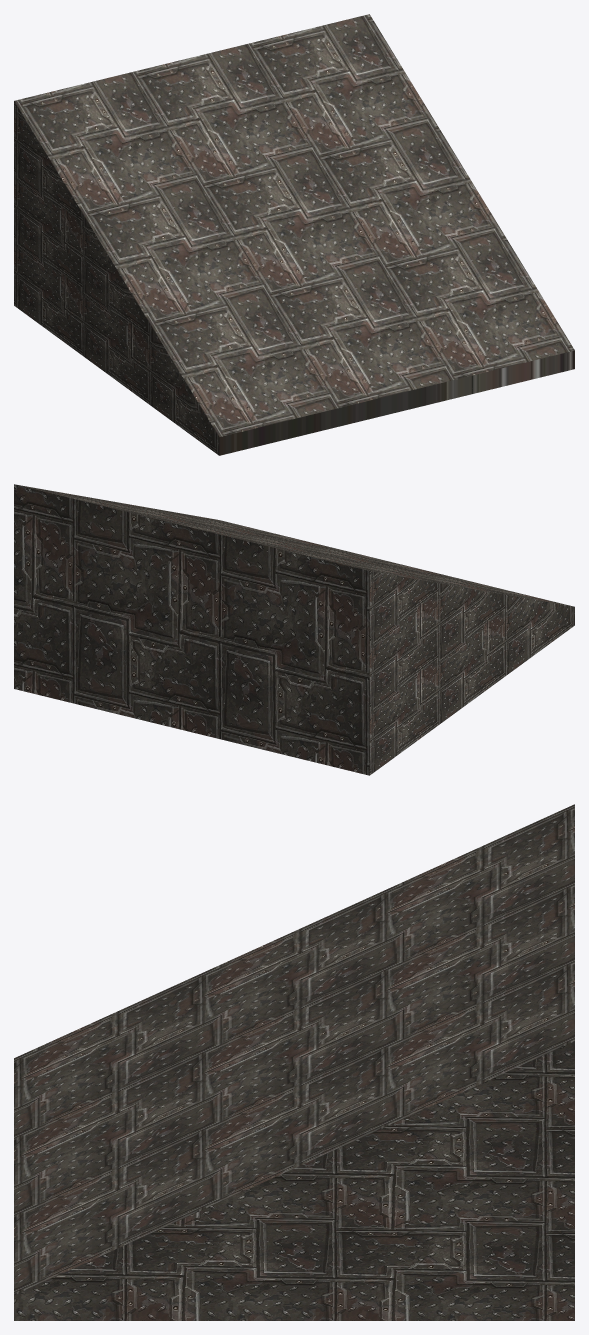
The model's file is Ramp_metal5.glb.
3 renders of one model, top to bottom at view 1: azimuth 30°, elevation 25°; view 2: azimuth 150°, elevation 25°; view 3: azimuth 270°, elevation 25°, orthographic. The views are drawn at different scales.
Parts seen in each view (by area): view 1: Cube; view 2: Cube; view 3: Cube.
Boxes of the visible parts, bbox=[...] form: Cube: bbox=[14, 14, 574, 455]; Cube: bbox=[14, 484, 574, 775]; Cube: bbox=[14, 804, 574, 1320].
Size of what is drawn, in the model's own units: 4 by 2.2 by 4.
Materials: 1 (1 with a texture image).
